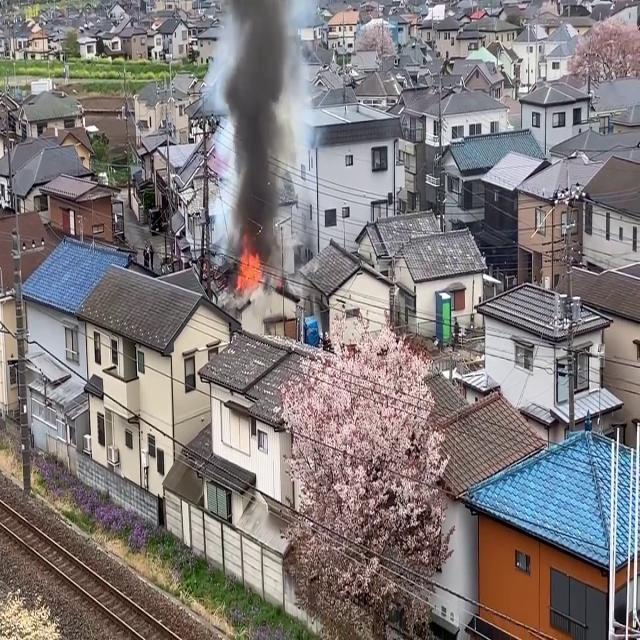Fire: (234, 242, 266, 296)
Smoke: (211, 0, 317, 262)
